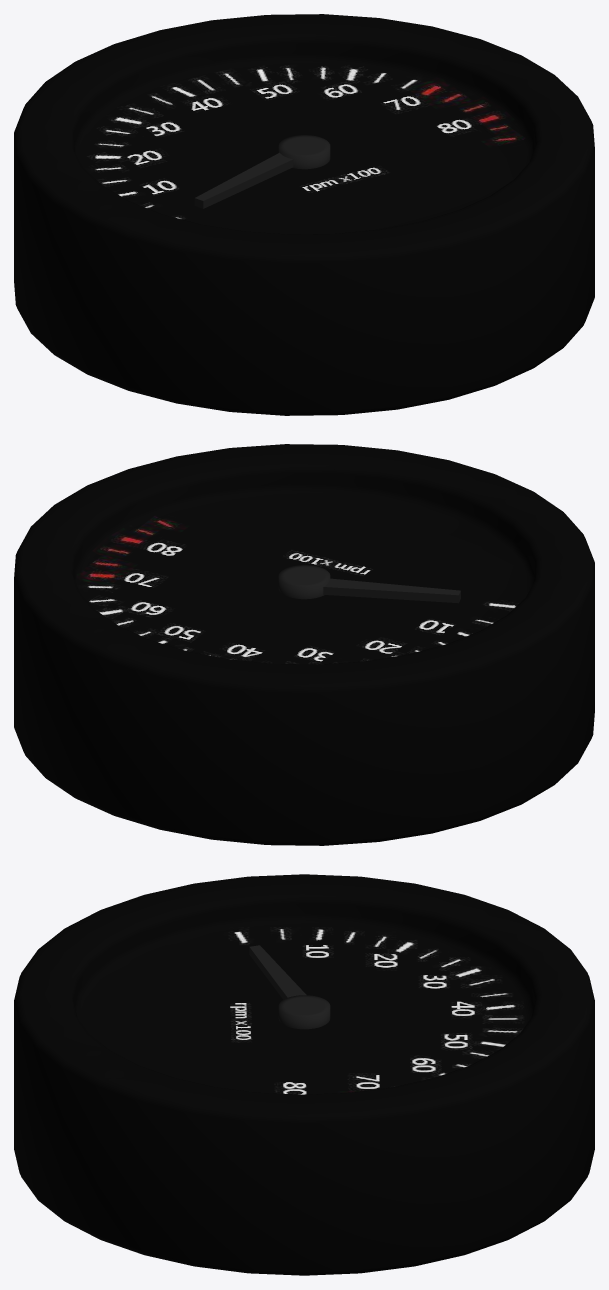
Rendered from Speed Gauge.fbx.
The picture shows the model from 3 angles, top to bottom: view 1: azimuth 30°, elevation 25°; view 2: azimuth 150°, elevation 25°; view 3: azimuth 270°, elevation 25°; orthographic projection.
Visible parts, largest first — view 1: Cylinder, Plane, Cylinder.001; view 2: Cylinder, Plane, Cylinder.001; view 3: Cylinder, Cylinder.001, Plane.
Part boxes in pixels (bbox=[...]): Cylinder: bbox=[14, 14, 594, 415]; Plane: bbox=[194, 152, 293, 208]; Cylinder.001: bbox=[278, 135, 330, 169]; Cylinder: bbox=[14, 444, 594, 845]; Plane: bbox=[323, 578, 460, 603]; Cylinder.001: bbox=[278, 565, 330, 599]; Cylinder: bbox=[14, 874, 594, 1275]; Cylinder.001: bbox=[278, 995, 330, 1029]; Plane: bbox=[249, 945, 306, 999].
Size of the model in its own units: 200 by 61.36 by 200.
